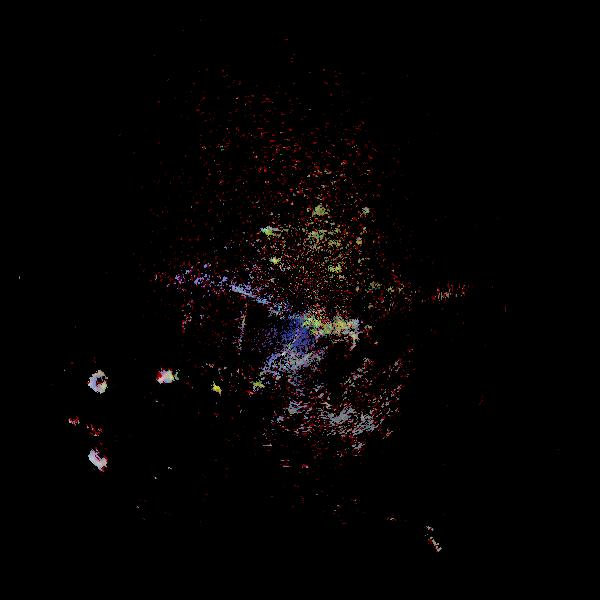roost: (76, 361, 121, 406), (148, 357, 187, 396)
